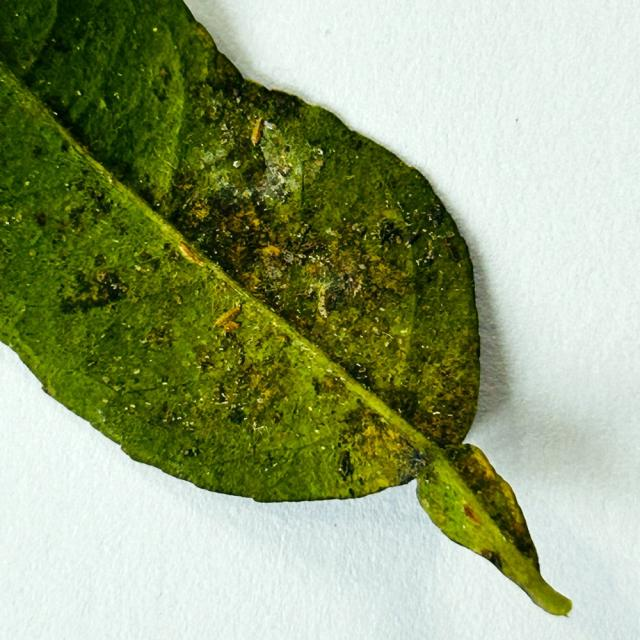Bacterial_Blight: (0, 0, 573, 617), (195, 166, 373, 333), (63, 289, 183, 397), (199, 105, 315, 209), (209, 328, 316, 431), (261, 227, 360, 313), (335, 413, 424, 496), (193, 179, 276, 262), (45, 103, 132, 180), (49, 194, 122, 273), (333, 290, 404, 366), (406, 389, 472, 450), (350, 235, 411, 297), (62, 269, 135, 316), (61, 266, 129, 315), (135, 138, 185, 197), (61, 79, 116, 126), (212, 309, 249, 375), (320, 273, 356, 314), (258, 161, 292, 200), (198, 140, 234, 173), (376, 218, 409, 249), (212, 181, 246, 211), (400, 447, 430, 480), (140, 323, 174, 350), (392, 396, 421, 424), (347, 363, 374, 391), (65, 200, 94, 225), (137, 184, 164, 210), (58, 293, 88, 315), (103, 277, 128, 303), (423, 202, 446, 229), (292, 225, 315, 252), (511, 531, 535, 556), (337, 450, 355, 479), (228, 404, 248, 425), (381, 208, 404, 226), (49, 38, 73, 55), (444, 239, 461, 261), (404, 229, 423, 247), (264, 263, 284, 280), (157, 64, 173, 84), (487, 551, 503, 570), (135, 249, 155, 264), (93, 253, 108, 268), (306, 138, 324, 150), (200, 358, 215, 372), (35, 212, 47, 227), (183, 446, 199, 457), (96, 97, 108, 111), (236, 351, 246, 367), (32, 144, 44, 157), (86, 360, 98, 368), (348, 487, 356, 498)
